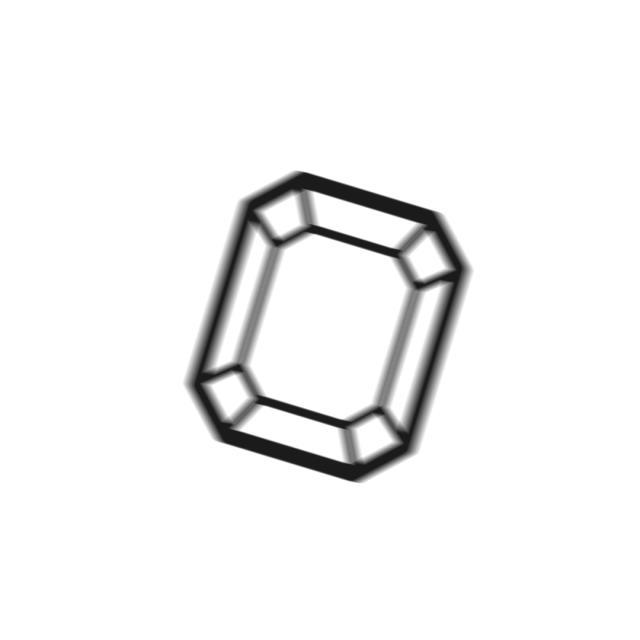emerald: (178, 166, 478, 493)
